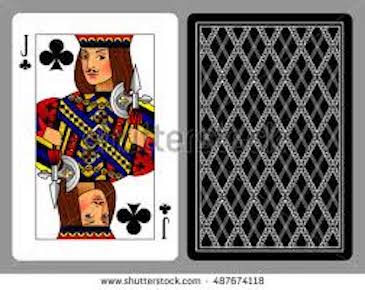JackOfClubs: (8, 12, 181, 263)
